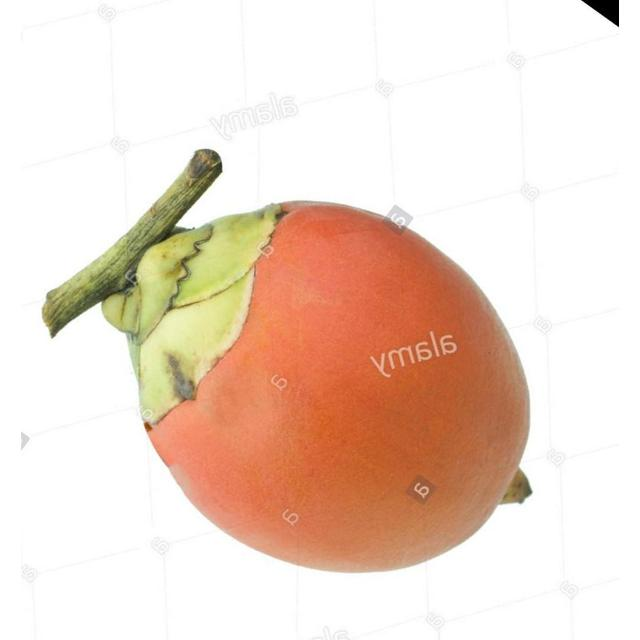good: (101, 201, 532, 576)
